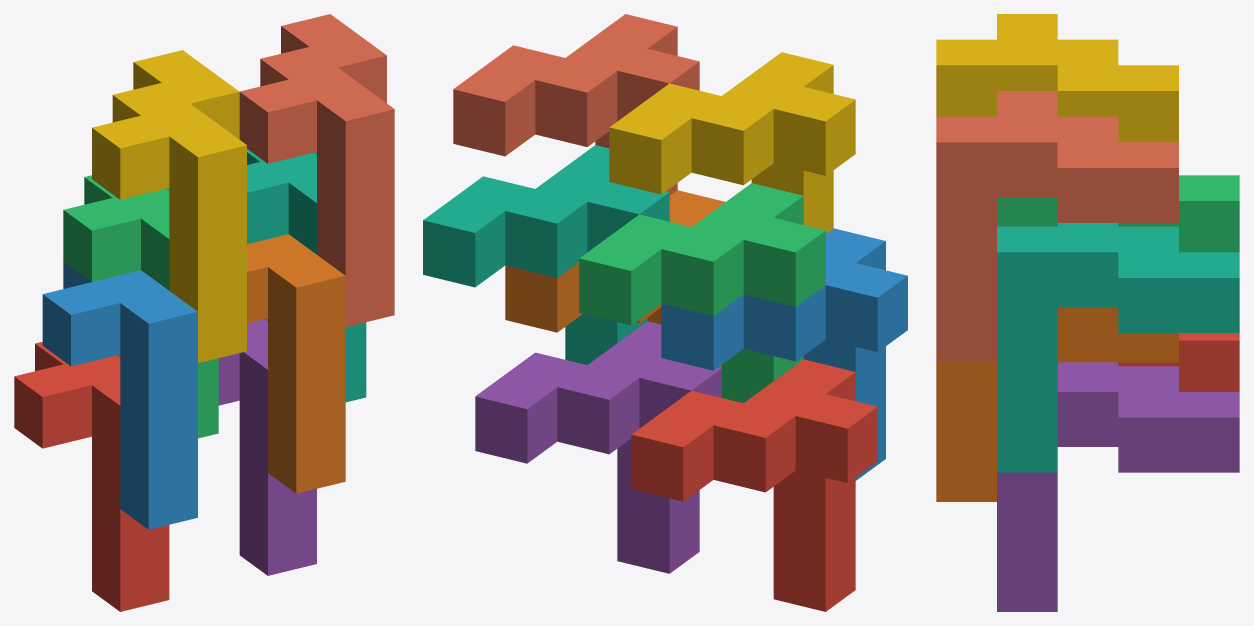
Rendered from tiling.obj.
3 views of the same model, side by side, from view 1: azimuth 30°, elevation 25°; view 2: azimuth 150°, elevation 25°; view 3: azimuth 270°, elevation 25° (orthographic). The views are drawn at different scales.
Parts seen in each view (by area): view 1: copy_1_domain_8, copy_1_domain_4, copy_1_domain_2, copy_1_domain_6, copy_1_domain_1, copy_1_domain_5, copy_1_domain_3, copy_1_domain_7; view 2: copy_1_domain_1, copy_1_domain_4, copy_1_domain_3, copy_1_domain_5, copy_1_domain_7, copy_1_domain_8, copy_1_domain_2, copy_1_domain_6; view 3: copy_1_domain_8, copy_1_domain_7, copy_1_domain_5, copy_1_domain_4, copy_1_domain_6, copy_1_domain_3, copy_1_domain_1.
Part boxes in pixels (x1,y1,x2,y2): copy_1_domain_8: [239, 14, 394, 326]; copy_1_domain_4: [92, 50, 246, 362]; copy_1_domain_2: [42, 261, 197, 529]; copy_1_domain_6: [247, 234, 345, 493]; copy_1_domain_1: [14, 342, 169, 611]; copy_1_domain_5: [218, 318, 316, 575]; copy_1_domain_3: [63, 175, 218, 438]; copy_1_domain_7: [247, 149, 366, 402]; copy_1_domain_1: [631, 359, 877, 611]; copy_1_domain_4: [609, 52, 855, 233]; copy_1_domain_3: [579, 183, 825, 403]; copy_1_domain_5: [475, 321, 721, 573]; copy_1_domain_7: [423, 145, 669, 364]; copy_1_domain_8: [453, 14, 699, 195]; copy_1_domain_2: [661, 228, 907, 480]; copy_1_domain_6: [505, 190, 725, 368]; copy_1_domain_8: [936, 91, 1178, 362]; copy_1_domain_7: [997, 223, 1239, 472]; copy_1_domain_5: [997, 362, 1239, 611]; copy_1_domain_4: [936, 14, 1178, 142]; copy_1_domain_6: [936, 307, 1178, 501]; copy_1_domain_3: [997, 175, 1239, 252]; copy_1_domain_1: [1118, 333, 1239, 391].
Bounding box in the file's own units: 7 × 9 × 5.
